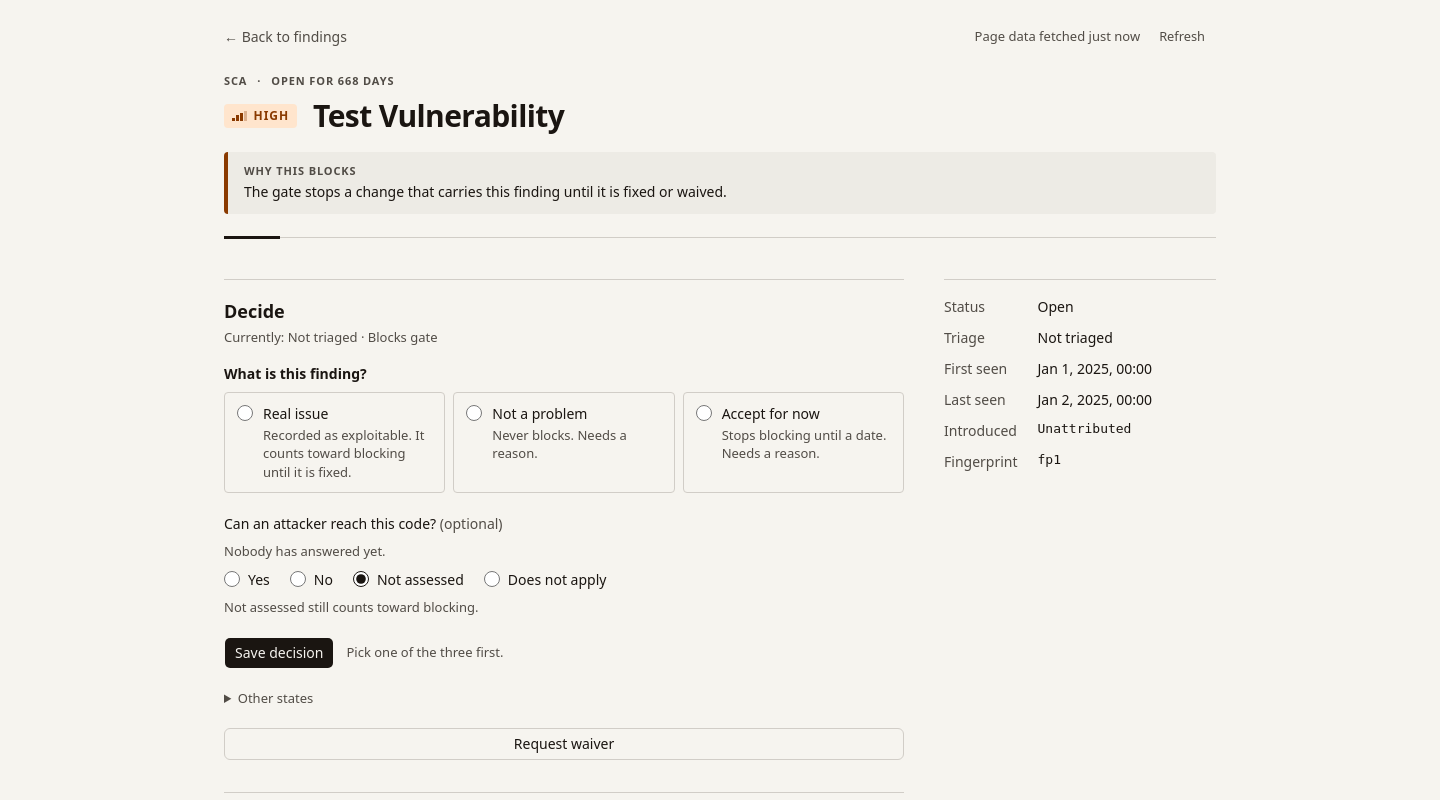
Test: decide-first form when one of the two saves fails › says the decision saved, keeps the reachability input and retries only that part
This screenshot has width=1440, height=800.
Expected: the heading "Test Vulnerability" is shown, [313,99,564,132]
Expected: the text "Nobody has answered yet." is shown, [224,542,386,560]
Click the radio button labelled "Not a problem Never blocks. Needs a reason." at (474, 413), box [466,405,482,421]
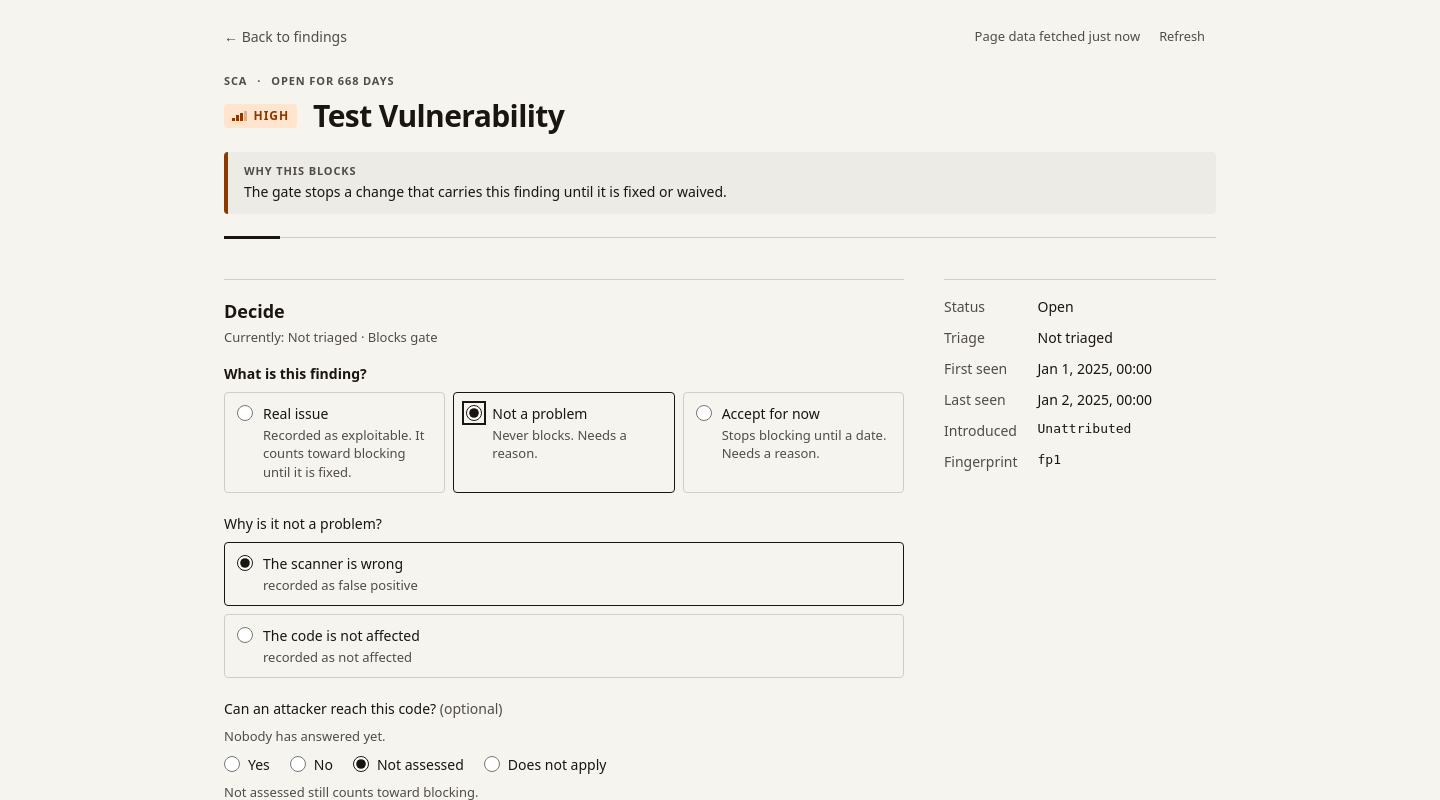
Click the radio button labelled "Yes" at (232, 764), box [224,756,240,772]
(page scrolled)
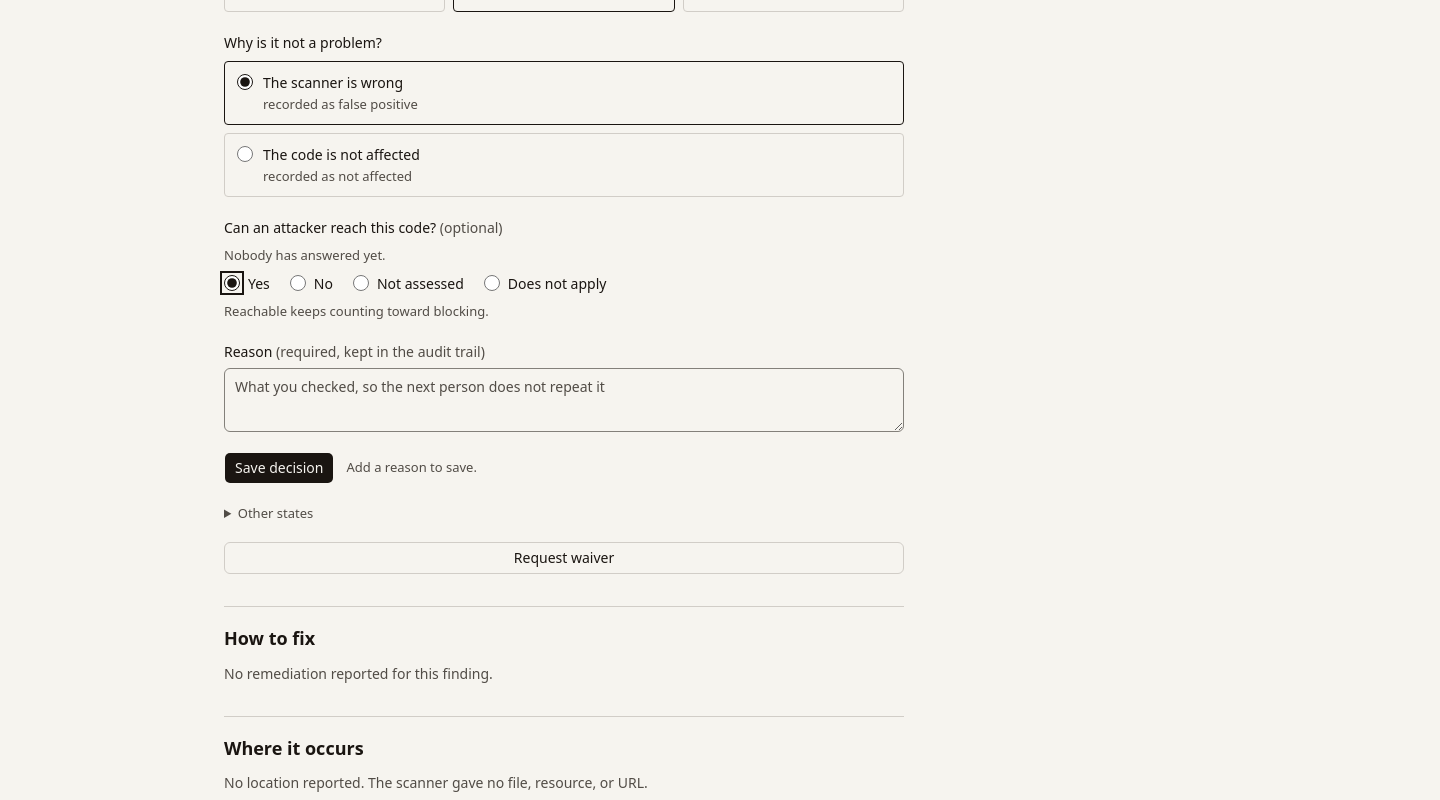
Type "checked the call graph" into the text box labelled "Reason (required, kept in the audit trail)" at (564, 400), box [224,368,904,432]
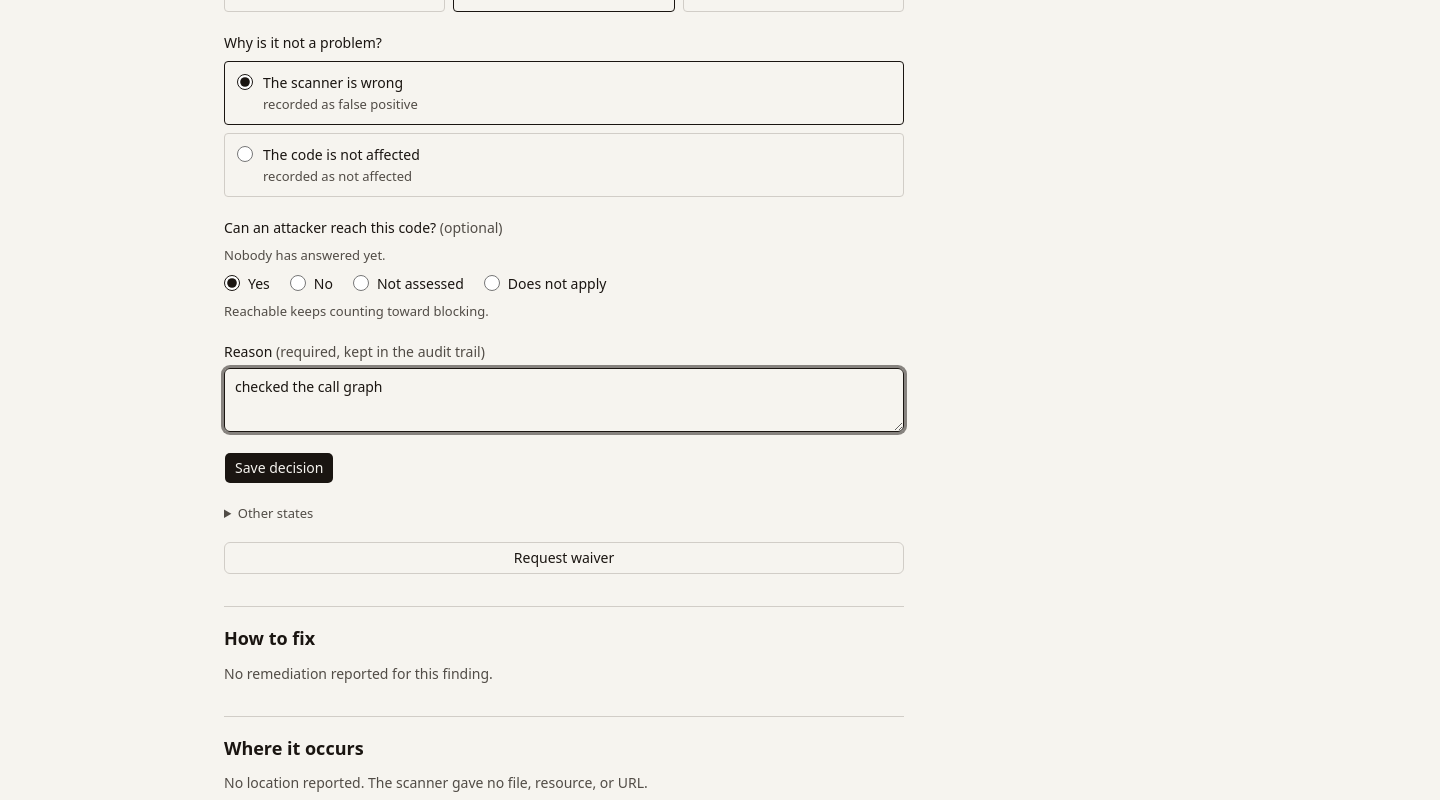
Click the button "Save decision" at (279, 468), box [224,452,334,484]
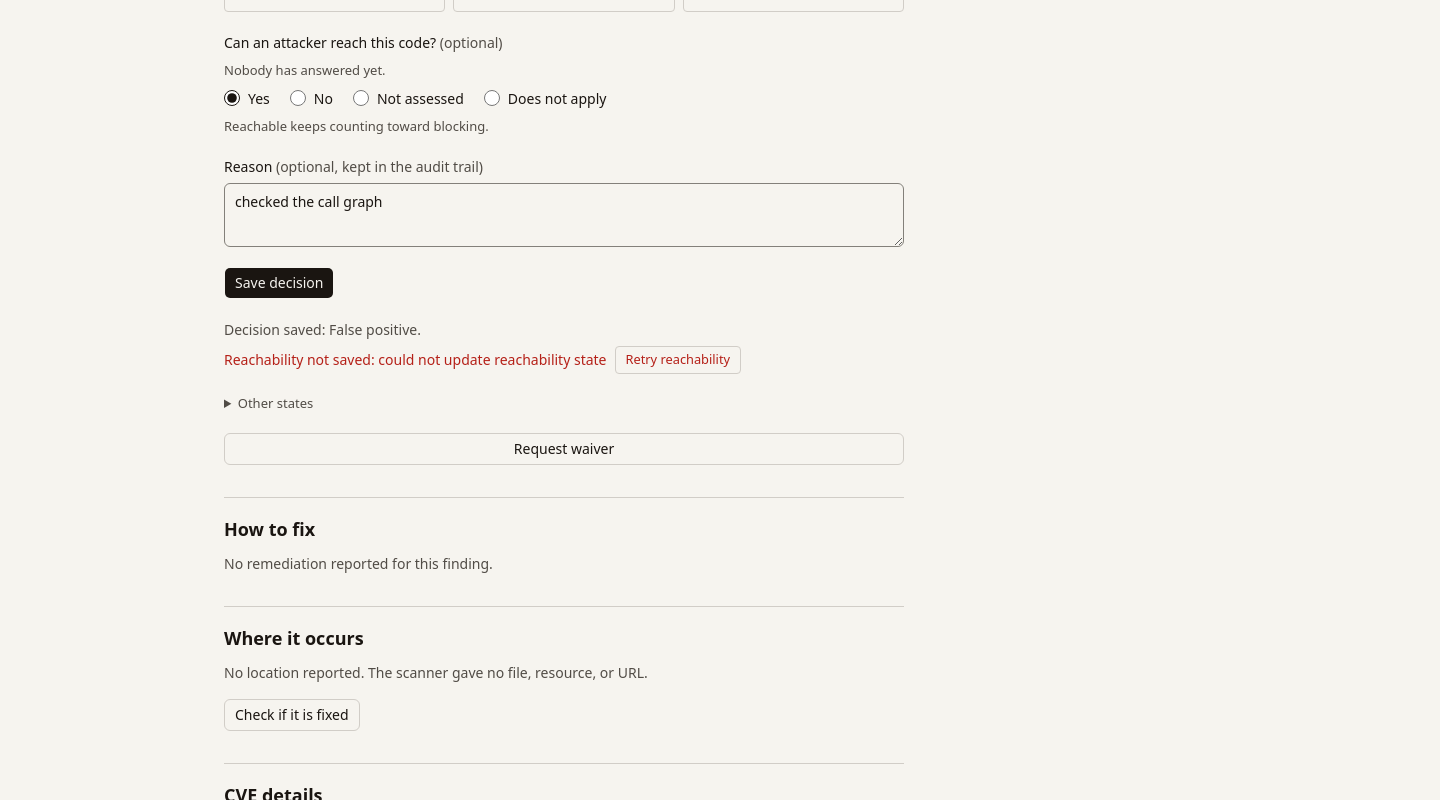
Expected: the radio button labelled "Yes" is checked, [224,90,240,106]
Expected: the list named "Save results" shows "Decision saved: False positive.", [224,320,421,339]
Expected: the list named "Save results" shows "Reachability not saved: could not update reachability state", [224,350,606,369]
Click the button "Retry reachability" at (678, 360), box [614,346,741,374]
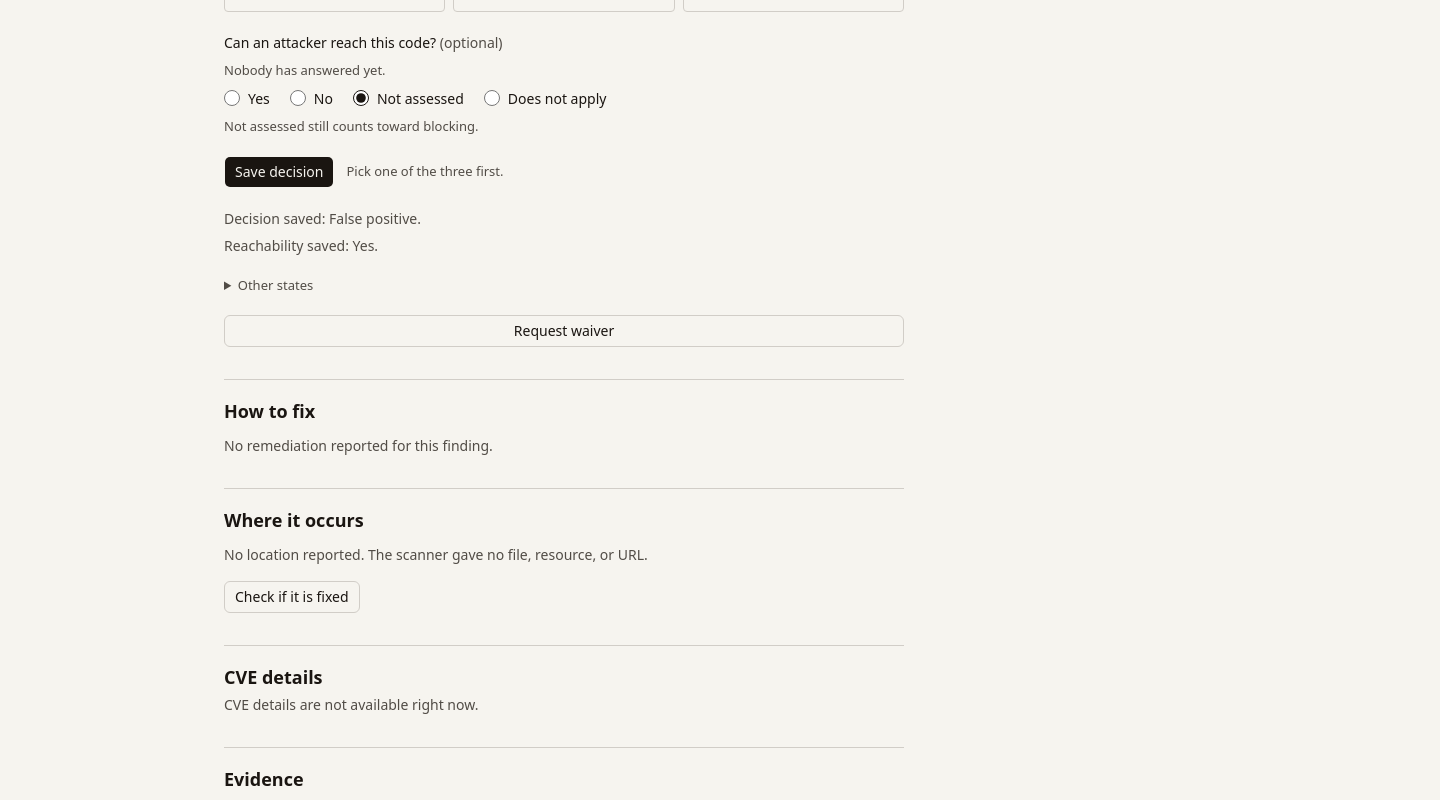
Expected: the list named "Save results" shows "Decision saved: False positive.", [224,209,421,228]
Expected: the list named "Save results" shows "Reachability saved: Yes.", [224,236,378,255]
